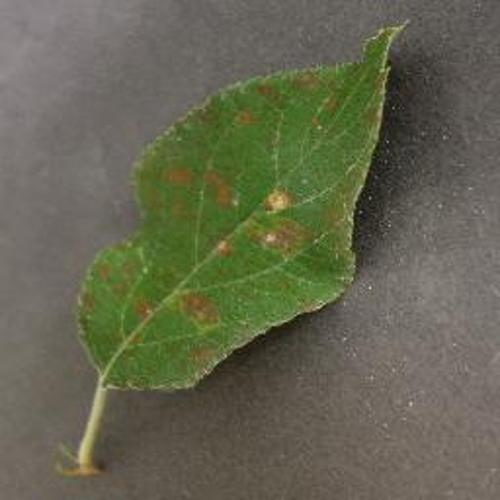Apple: (57, 19, 409, 476)
